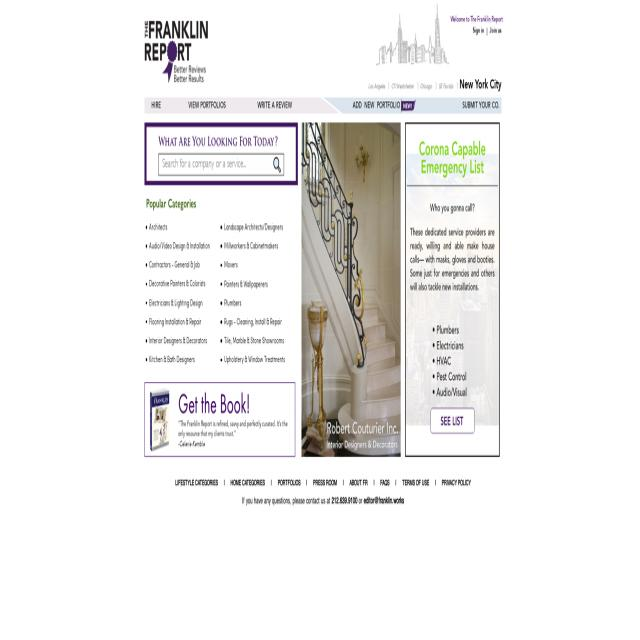button: (302, 122, 401, 457), (405, 122, 500, 457), (145, 383, 295, 458), (364, 4, 460, 70), (144, 21, 208, 83), (246, 97, 337, 112), (431, 408, 474, 434), (338, 98, 401, 114), (180, 99, 246, 113), (453, 98, 502, 113), (146, 98, 180, 113), (401, 99, 415, 113), (272, 157, 282, 172)
field: (159, 153, 283, 175)
